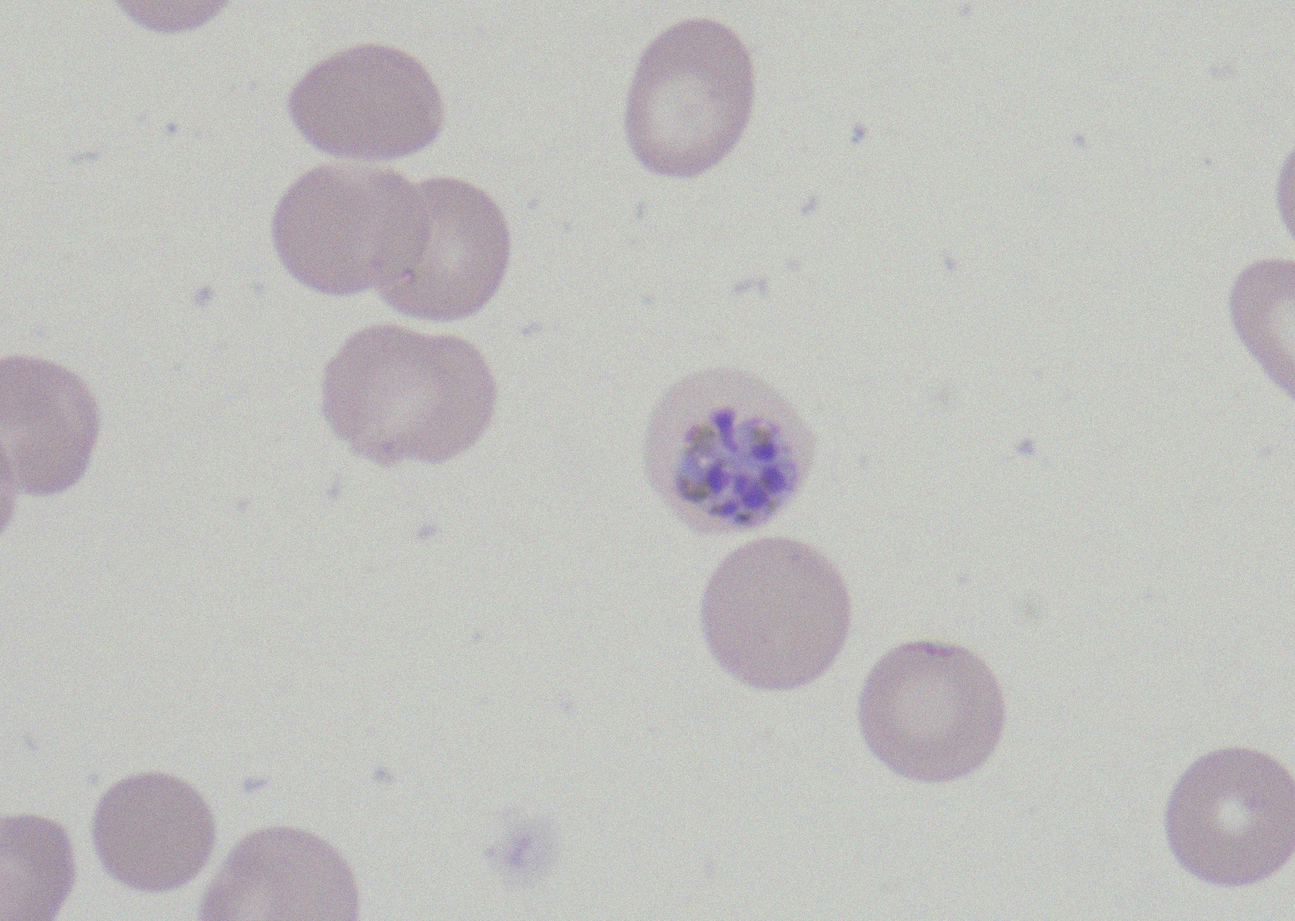Infected: (645, 366, 811, 537)
Uninfected: (324, 318, 498, 463), (701, 534, 854, 690), (857, 642, 1011, 783), (268, 164, 426, 296), (624, 18, 754, 177), (373, 176, 510, 323), (286, 42, 445, 163), (1163, 747, 1293, 883), (205, 828, 361, 921), (0, 354, 101, 494), (96, 773, 212, 887)
